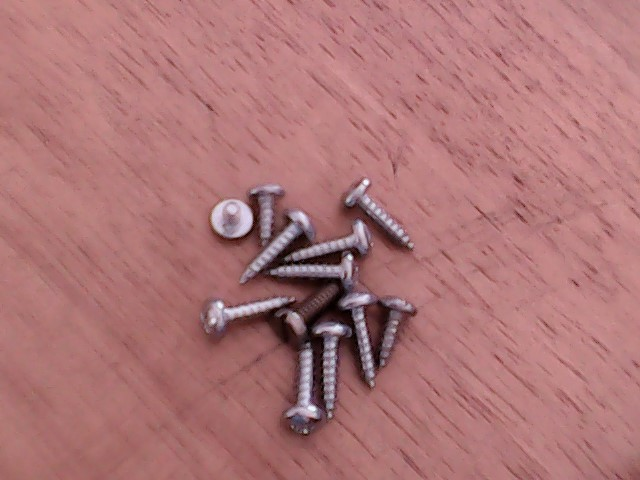Metal: (197, 159, 435, 445)
